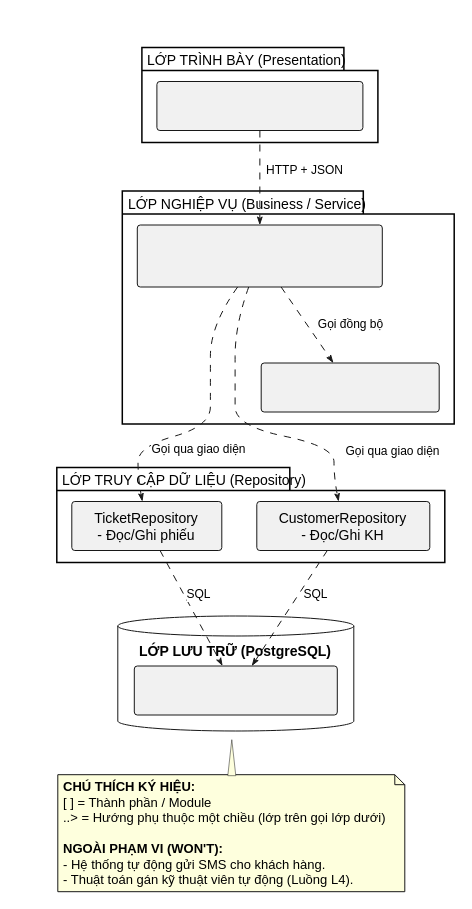
This 472x909 diagram has some shape labels left out. Here are the shapes that lost their labels. From the top down, the centre of each, then its label:
pixel 259 105: Màn hình tiếp nhận phiếu
pixel 259 255: TicketService - Tạo phiếu mới - Thi hành QT-01, QT-04, QT-13
pixel 349 387: ClassifyService - Đề xuất nhóm sự cố
pixel 235 690: Tables: ticket, customer, device, ticket_status_log
